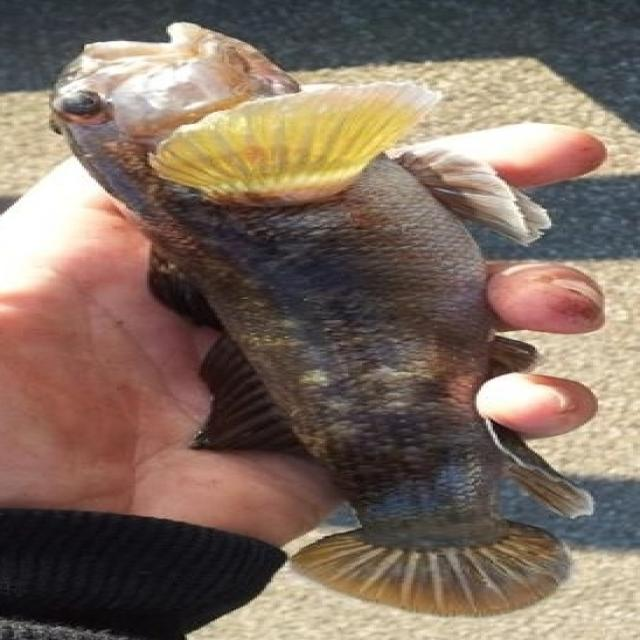Goby: (3, 19, 640, 607)
